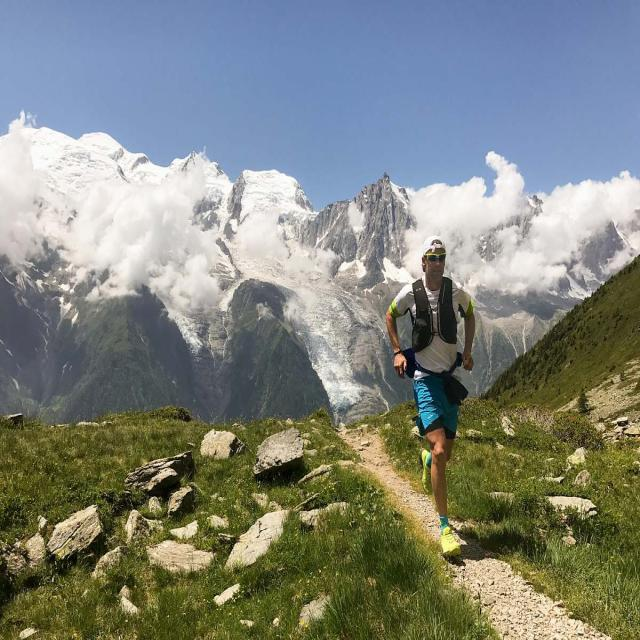running: (384, 232, 476, 562)
